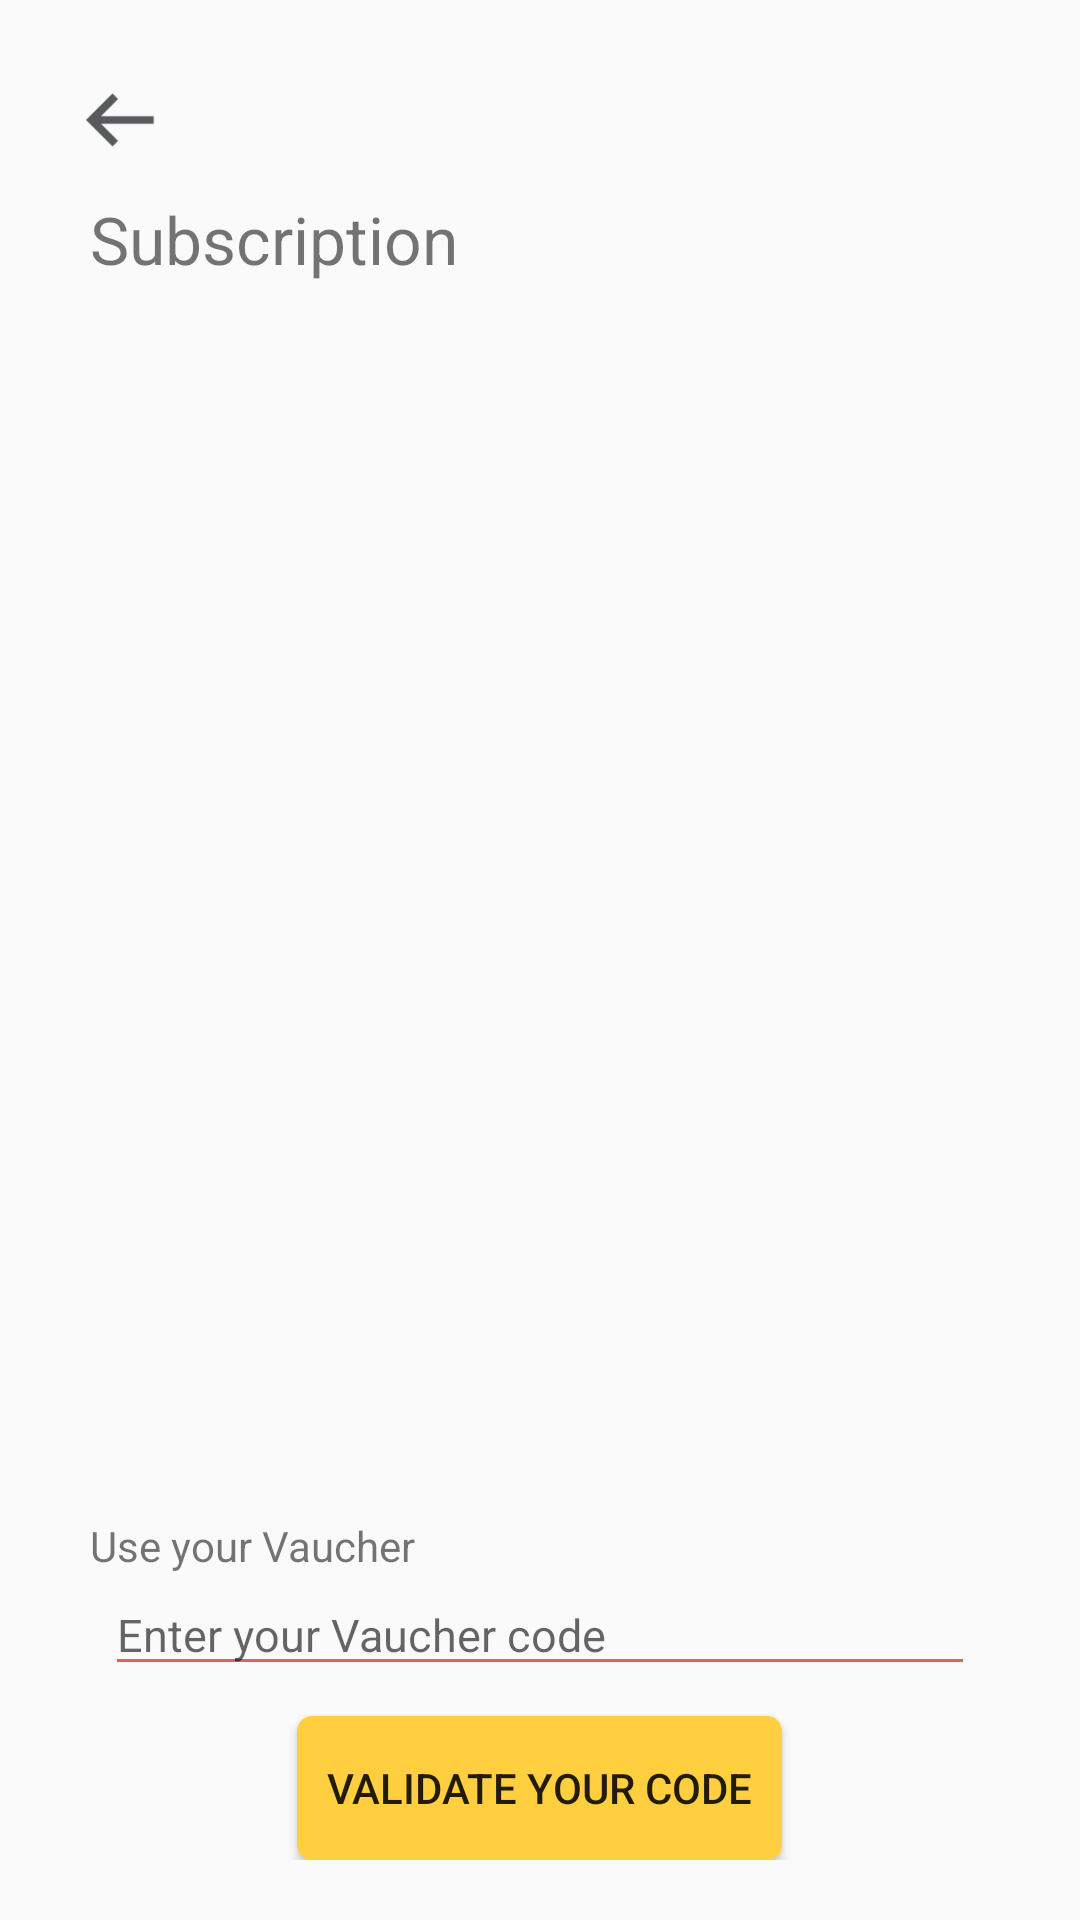

Screen size 1080px x 1920px. Icon name, then its center in pixels as point (x, y):
left: point (120, 120)
